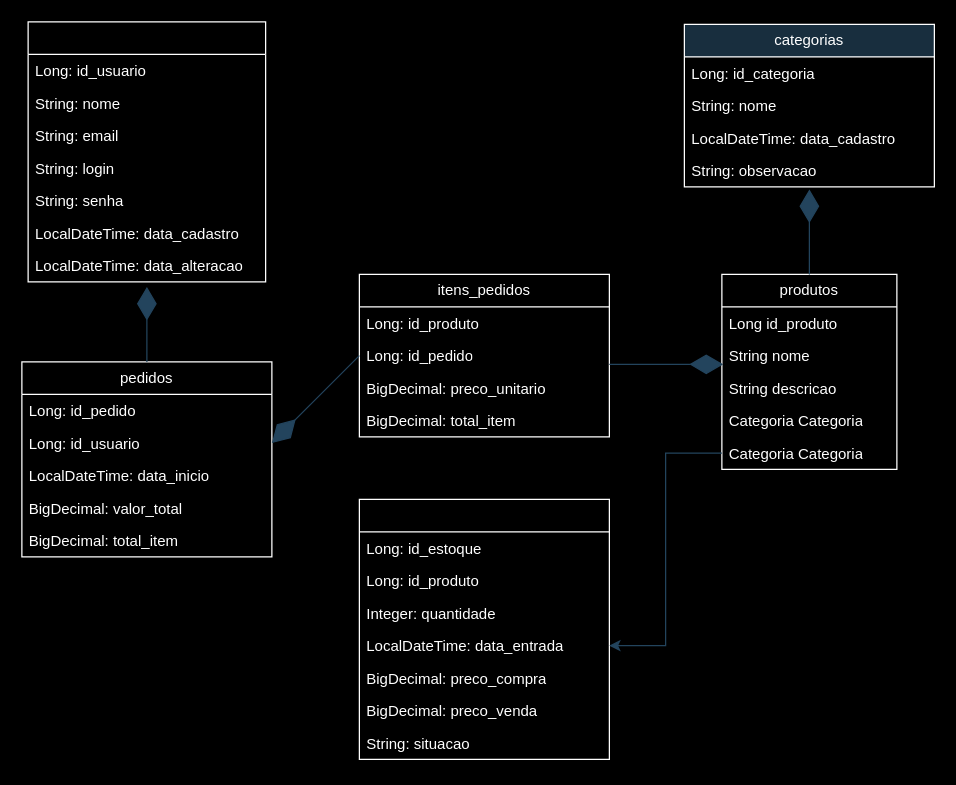
Some shapes in this 956 by 785 pixel diagram are drawn without their labels. The shapes that lost their labels are listed below. From the top down, each one's box as (x1, y1, x2, y2) in pixels, then its label:
(27, 21, 266, 282): usuarios
(358, 498, 609, 759): estoques
